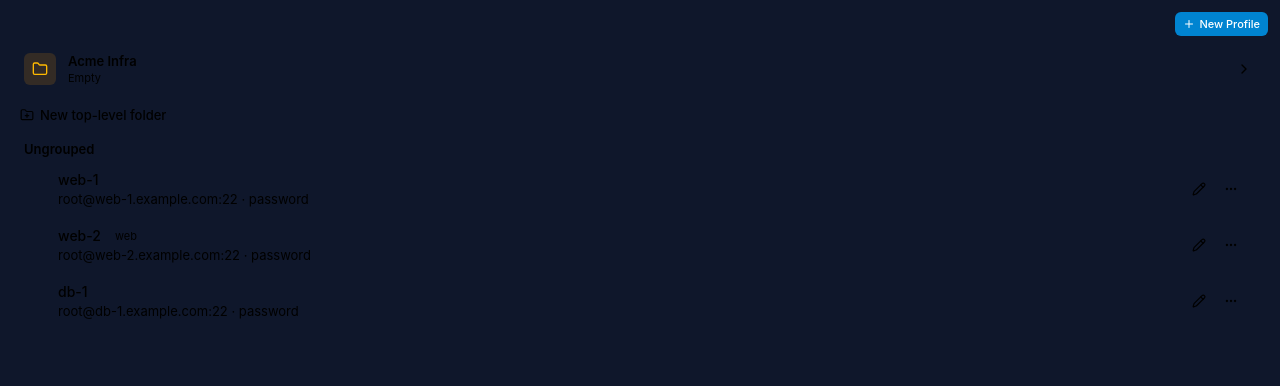
Test case: TeamProfileTreeList multi-select › shows a checkbox on each shared profile and the action bar once some are selected
The image size is (1280, 386).
Click the 1st checkbox labelled "web-1 root@web-1.example.com:22 · password" at (78, 180), box x1=24 y1=164 x2=1256 y2=214
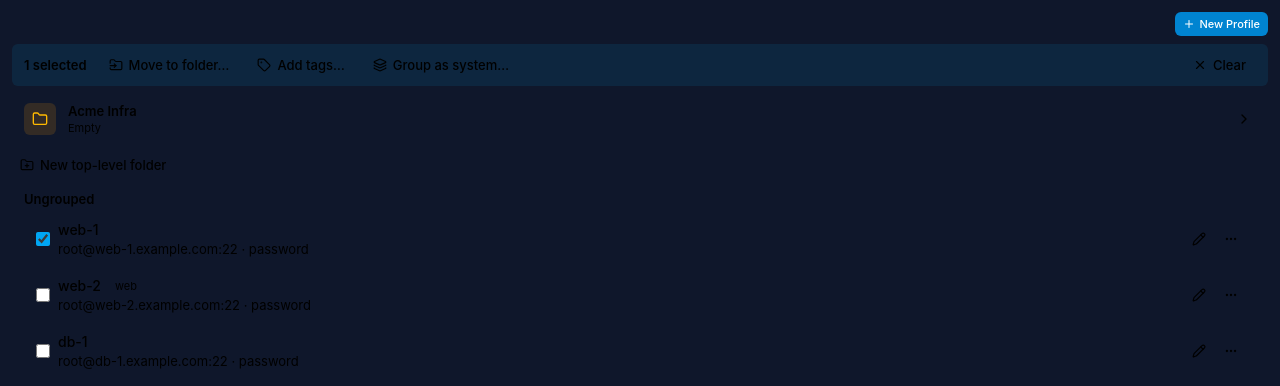
Click the checkbox named "Select db-1" at (43, 351), box x1=36 y1=344 x2=50 y2=358
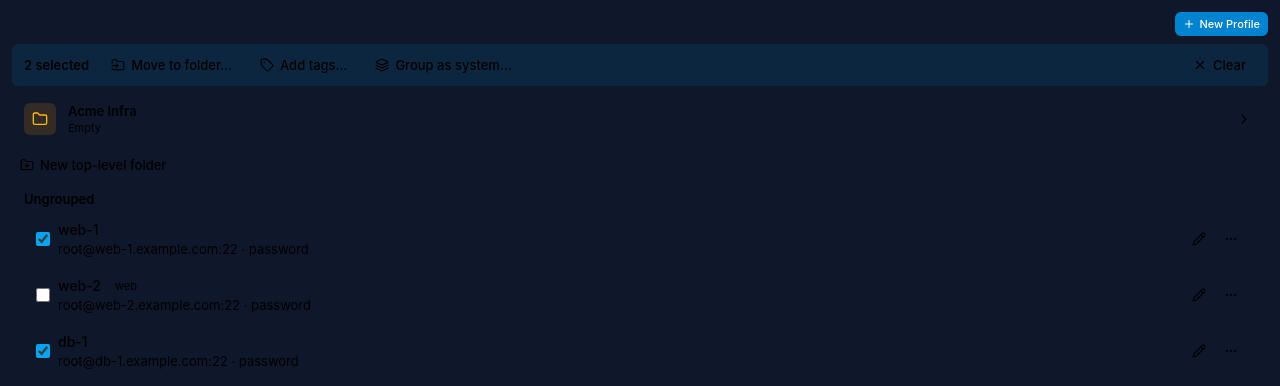
Result: the text "2 selected" is shown at x1=24 y1=56 x2=89 y2=74
